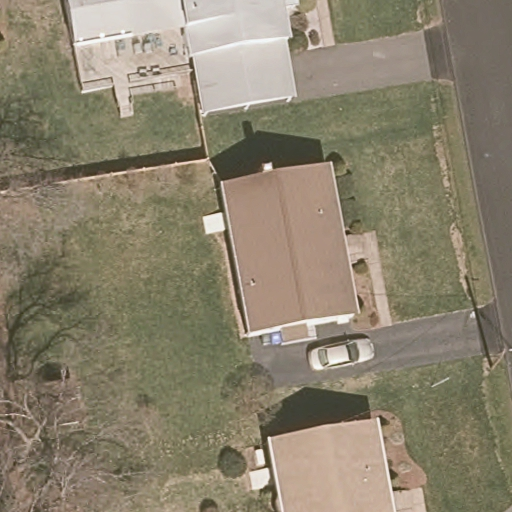DT: (488, 341, 512, 372)
